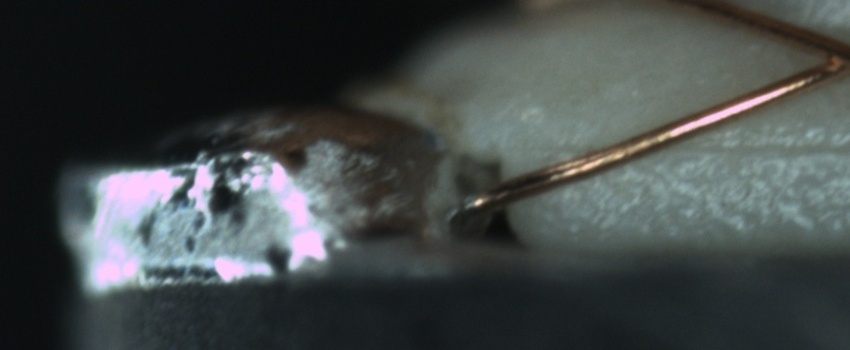CL: (794, 25, 850, 87)
DL: (549, 117, 850, 179)
